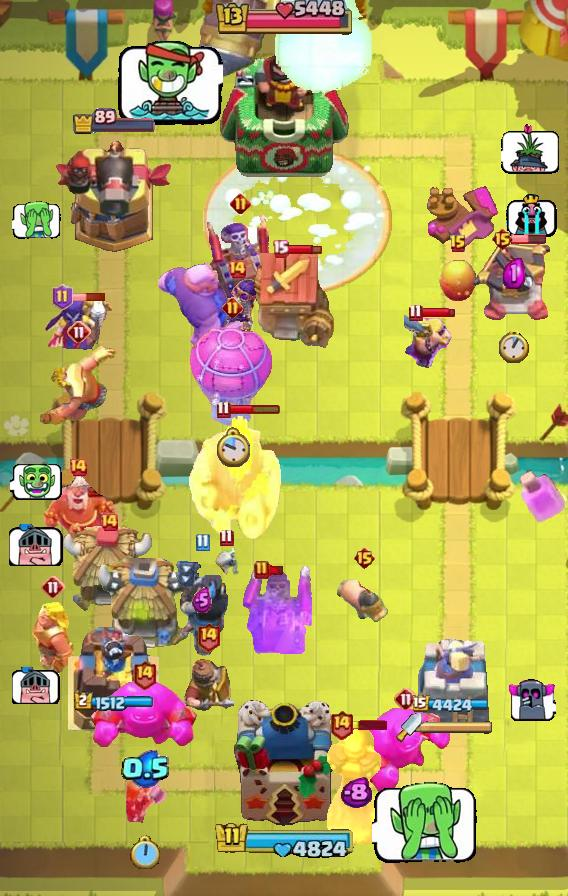arrows: (404, 315, 452, 369)
axe: (43, 295, 113, 355)
balloon: (155, 261, 249, 353)
bar: (416, 637, 490, 731)
cannon-cart: (188, 321, 276, 429)
clock: (210, 820, 358, 862), (213, 0, 355, 38)
clone: (360, 706, 452, 796), (88, 678, 200, 750)
earthquake: (182, 652, 234, 720)
electro-dragon: (317, 725, 395, 851)
electro-spirit: (121, 750, 171, 788), (340, 777, 372, 809), (503, 259, 525, 290), (192, 587, 212, 613)
elixir: (215, 427, 250, 469), (130, 835, 162, 873), (499, 330, 529, 363)
elixir-collector: (39, 472, 117, 546)
emote: (227, 403, 280, 415), (511, 233, 547, 245), (420, 307, 456, 319), (286, 243, 321, 255), (351, 720, 387, 730), (71, 292, 106, 302), (267, 565, 284, 576)
executioner: (337, 575, 391, 625)
giant-skeleton: (188, 414, 284, 542)
goblin-ball: (212, 278, 262, 332)
goblin-hut: (40, 346, 120, 426), (32, 599, 75, 677)
heal-spirit: (212, 547, 240, 577)
hog: (438, 259, 478, 303)
hog-rider: (123, 779, 169, 825)
inferno-dragon: (173, 557, 231, 657)
king-tower: (218, 37, 350, 181), (234, 700, 334, 826)
king-tower-bar: (422, 720, 494, 734)
knight-evolution: (520, 469, 566, 522)
lava-pup: (473, 244, 555, 324)
mega-knight: (273, 0, 376, 96)
phoenix-big: (204, 146, 392, 295)
prince: (93, 558, 195, 654), (62, 524, 156, 614)
queen-tower: (68, 627, 160, 731)
selected: (71, 109, 156, 136), (73, 691, 154, 713), (413, 695, 493, 715)
skeleton: (372, 780, 478, 865), (117, 42, 223, 126), (501, 122, 561, 175), (507, 190, 558, 237), (8, 524, 63, 566), (508, 678, 557, 722), (9, 462, 62, 502), (11, 201, 60, 240), (11, 667, 60, 705)
skeleton-king-bar: (238, 566, 312, 654), (207, 210, 273, 304)
sparky: (248, 252, 334, 350)
text: (195, 620, 220, 651), (131, 658, 156, 689), (330, 709, 355, 740), (67, 320, 91, 344), (41, 575, 65, 599), (394, 687, 418, 711), (51, 284, 73, 310), (491, 227, 514, 251), (352, 546, 375, 570), (222, 297, 243, 319), (229, 194, 250, 215), (227, 259, 247, 279), (68, 457, 88, 477), (99, 512, 119, 532), (449, 234, 467, 254), (272, 239, 289, 258), (254, 560, 270, 580), (408, 302, 423, 321), (218, 528, 233, 547), (217, 400, 231, 419), (195, 533, 209, 552)
tower-bar: (53, 138, 175, 256)
x-bow: (198, 0, 282, 78)
